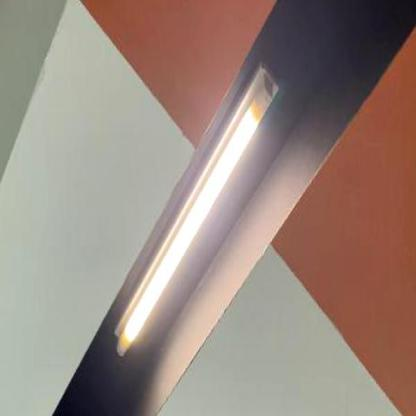light_on: (105, 52, 289, 367)
